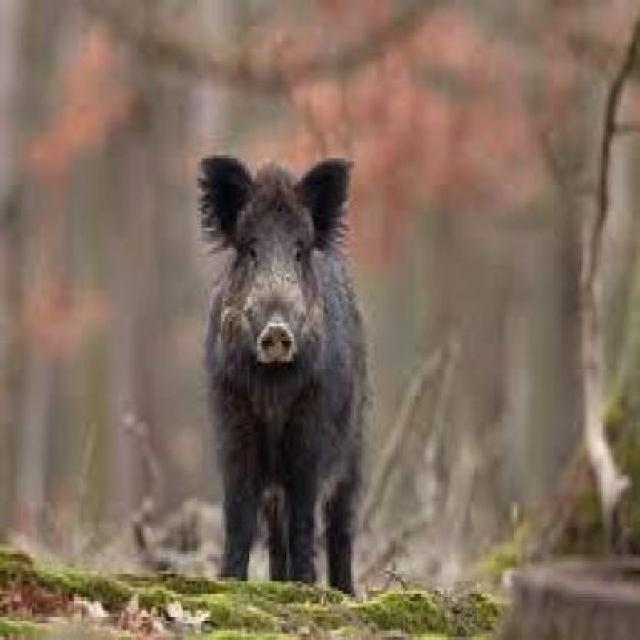wildboar: (194, 152, 368, 582)
